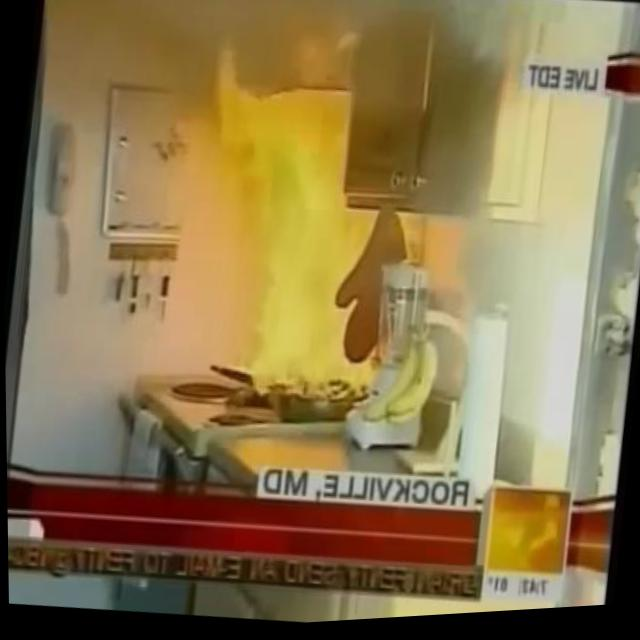fire: (179, 33, 406, 415)
